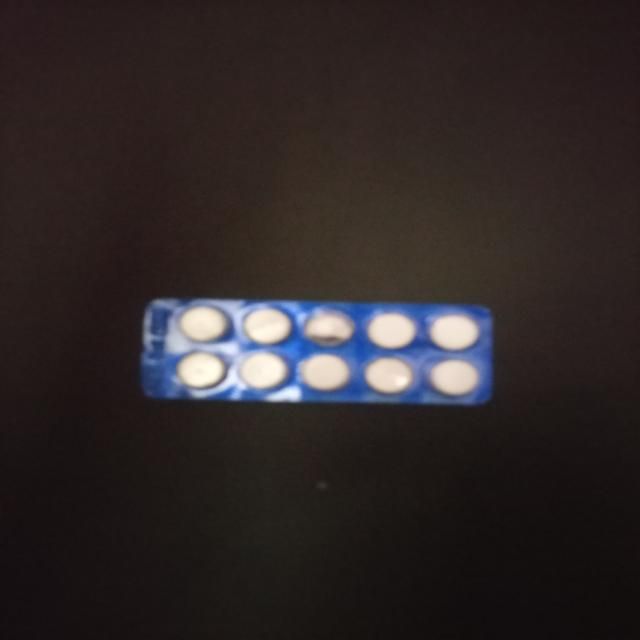defect: (301, 308, 357, 350)
